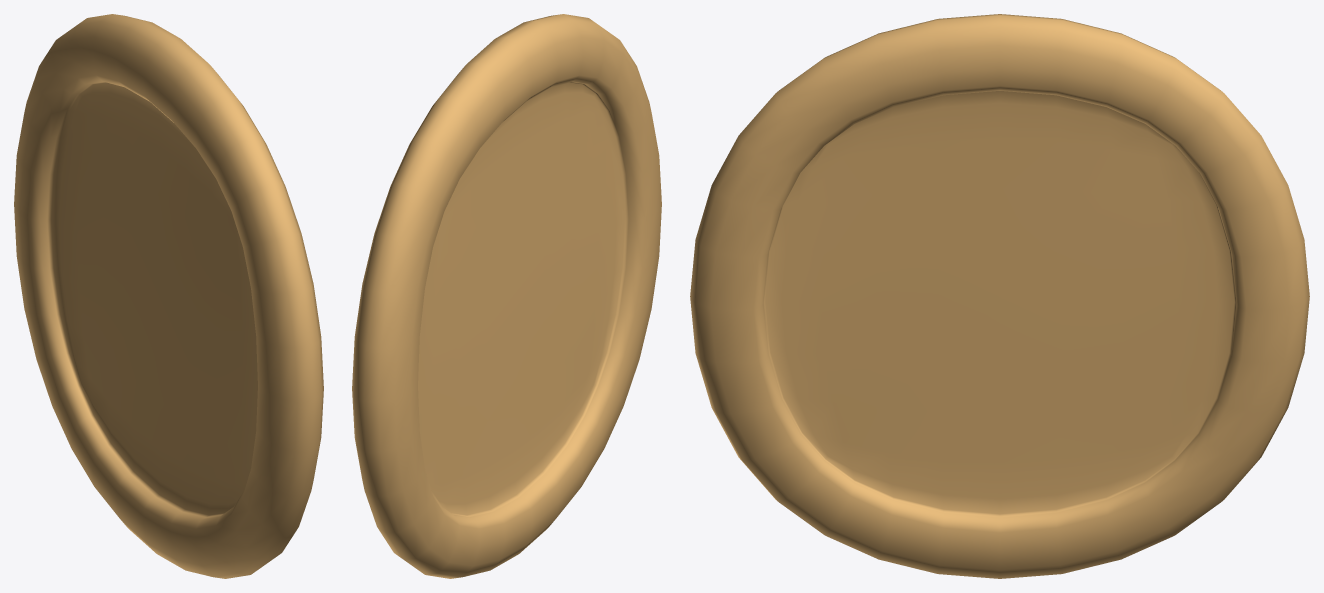
The model's file is coin.fbx.
The picture shows the model from 3 angles, left to right: view 1: azimuth 30°, elevation 25°; view 2: azimuth 150°, elevation 25°; view 3: azimuth 270°, elevation 25°; orthographic projection. The views are drawn at different scales.
Visible parts, largest first — view 1: Coin; view 2: Coin; view 3: Coin.
Boxes of the visible parts, box(x1,y1,x2,y2) form: Coin: box(14, 14, 323, 578); Coin: box(352, 14, 661, 578); Coin: box(690, 14, 1309, 578).
Size of the model in its own units: 16.75 by 160 by 160.
